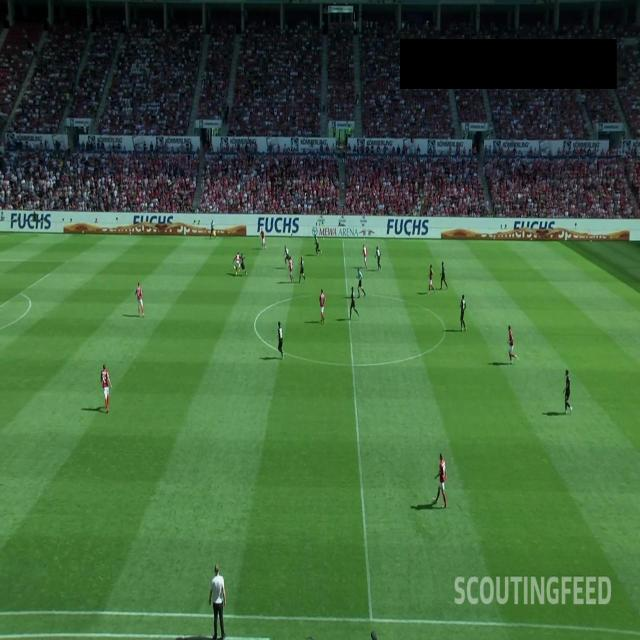ball: (233, 265, 236, 271)
player: (432, 452, 448, 508), (101, 364, 113, 413), (562, 370, 572, 414), (507, 324, 517, 364), (349, 286, 360, 320), (135, 282, 145, 318), (318, 288, 326, 324), (459, 293, 466, 332), (428, 264, 436, 294), (278, 321, 284, 359), (440, 262, 448, 290), (298, 255, 306, 283), (233, 252, 242, 276), (314, 233, 322, 257), (375, 245, 381, 271), (288, 256, 294, 282), (240, 254, 247, 276), (362, 244, 368, 268), (284, 245, 290, 267), (260, 228, 266, 250)
referee: (356, 266, 366, 298), (210, 218, 216, 240)
